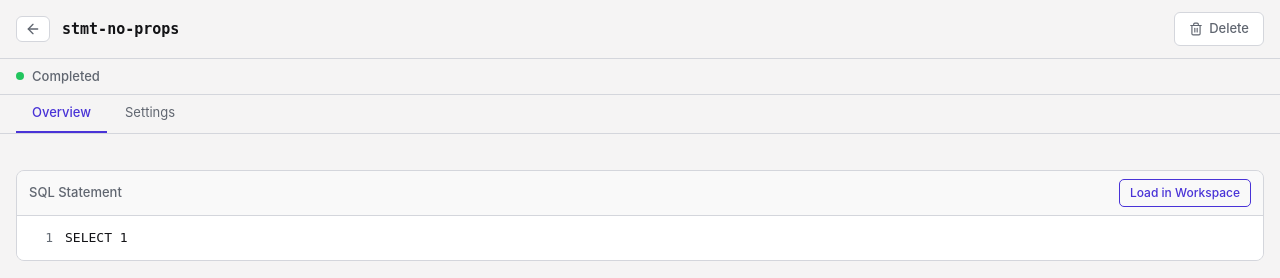
Scenario: [@coverage-boost] JobsDetail edge cases › settings tab shows empty state when no properties
Click the button "Settings" at (150, 114), box [109,95,191,132]
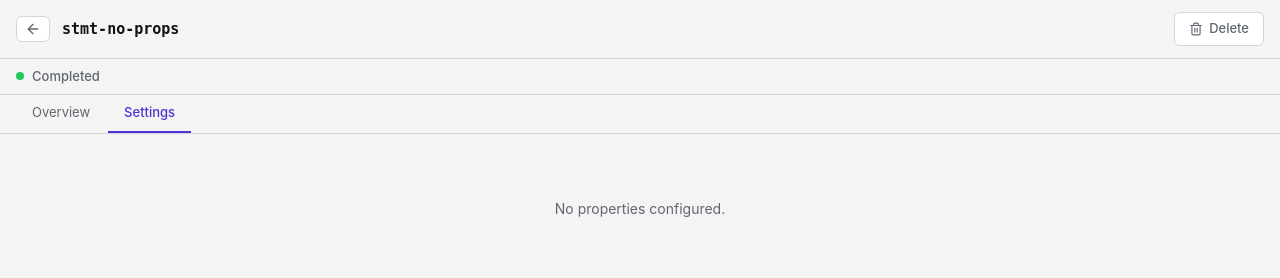
Expected: the text "No properties configured." is shown, [555,200,725,216]
